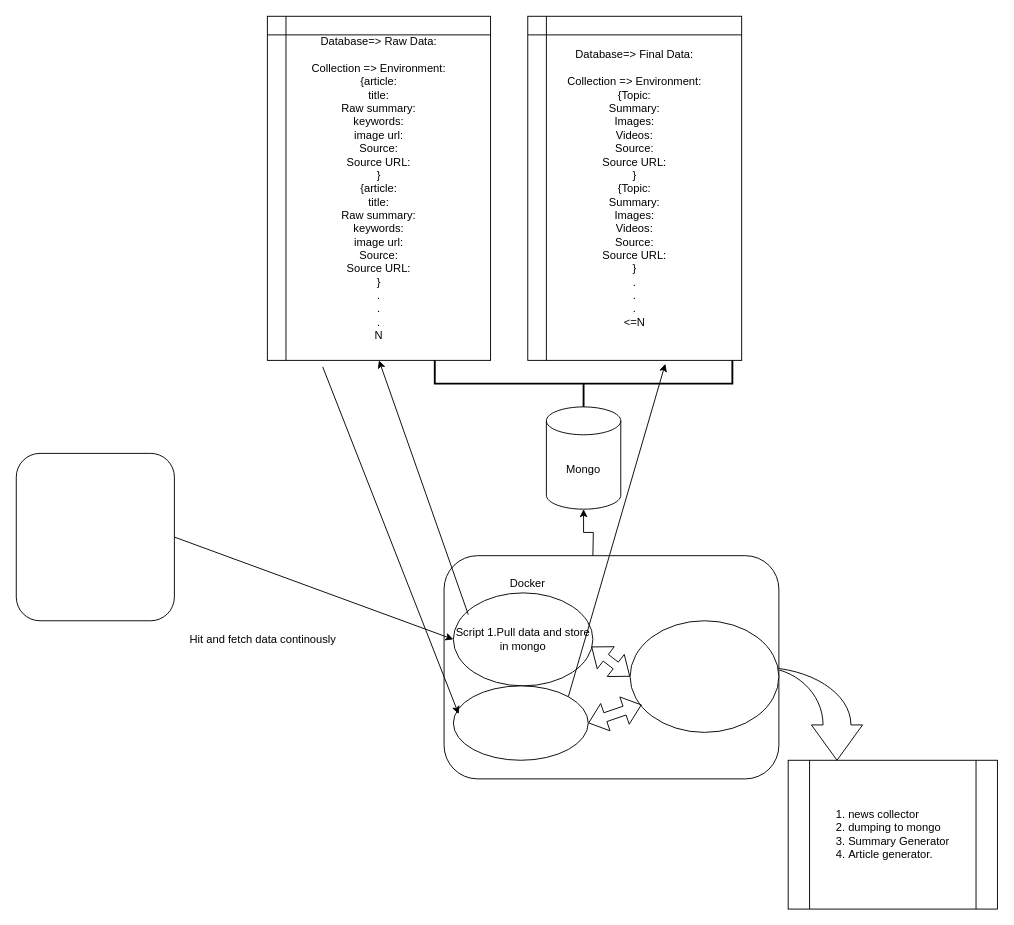
Image size: 1014x925. Some labels were removed from this diagram. The shapes that lost their labels are listed below. From the top down, each one's box as (x1, y1, x2, y2) in pixels, then its label:
(15, 452, 174, 621): Data Source External (14 Websites)
(629, 620, 779, 732): Flask Application API's
(452, 685, 588, 760): Script2: Fetch data from mongo, process and push final data to mongo
